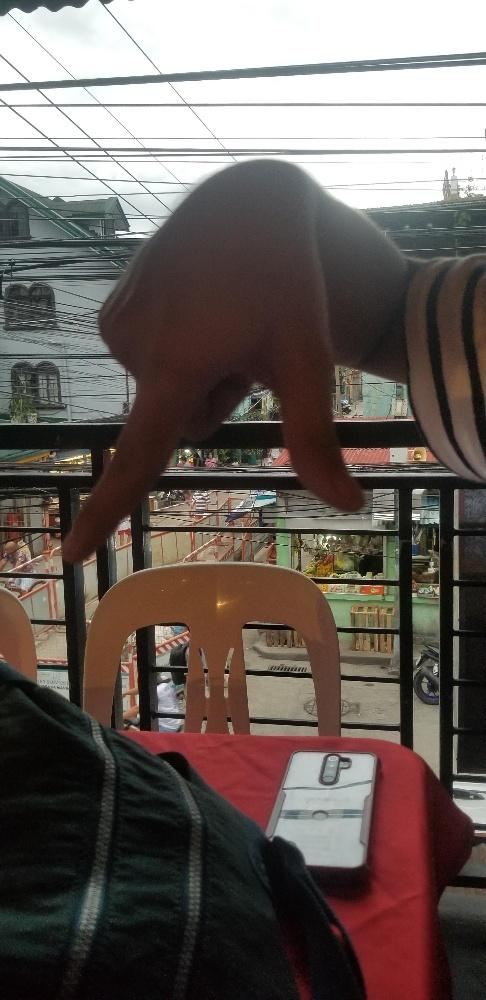q: (56, 157, 366, 565)
